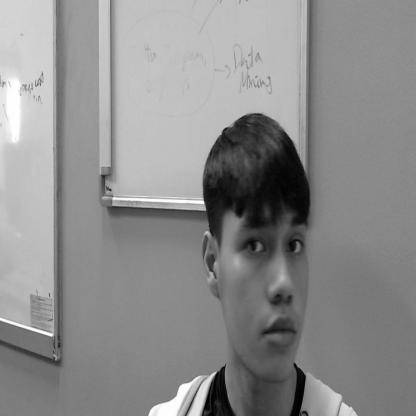Open-Eyes: (234, 216, 309, 264)
